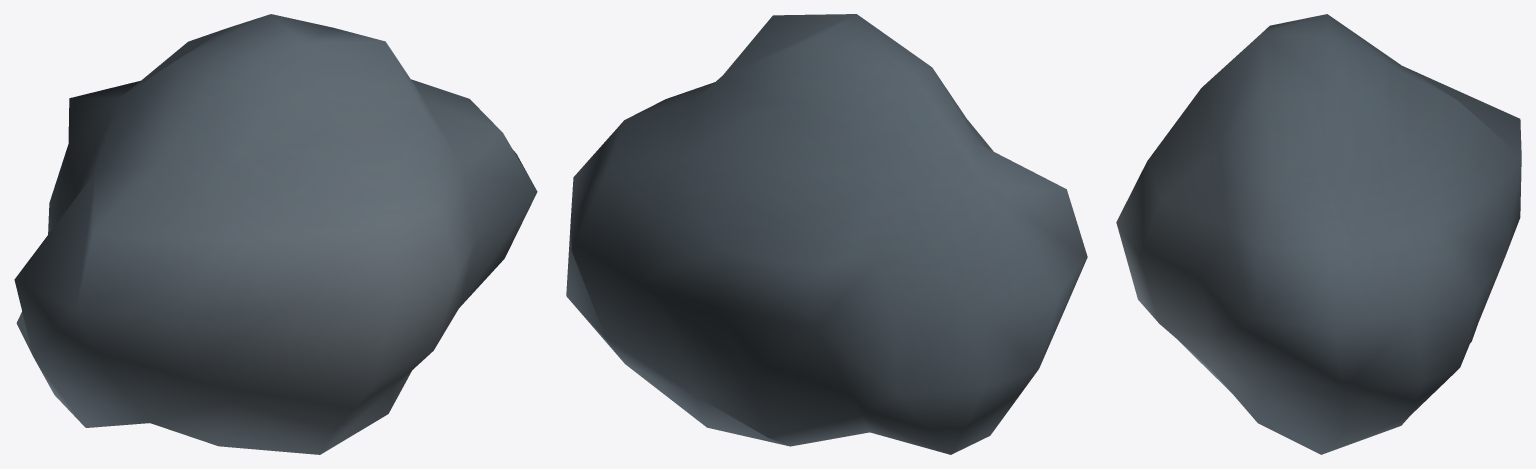
The model's file is Dust.fbx.
3 renders of one model, left to right at view 1: azimuth 30°, elevation 25°; view 2: azimuth 150°, elevation 25°; view 3: azimuth 270°, elevation 25°, orthographic. The views are drawn at different scales.
Visible parts, largest first — view 1: Dust; view 2: Dust; view 3: Dust.
Part boxes in pixels (x1=…): Dust: x1=14, y1=14, x2=537, y2=454; Dust: x1=566, y1=14, x2=1087, y2=454; Dust: x1=1116, y1=14, x2=1521, y2=454.
Size of the model in its own units: 160 by 127 by 123.
